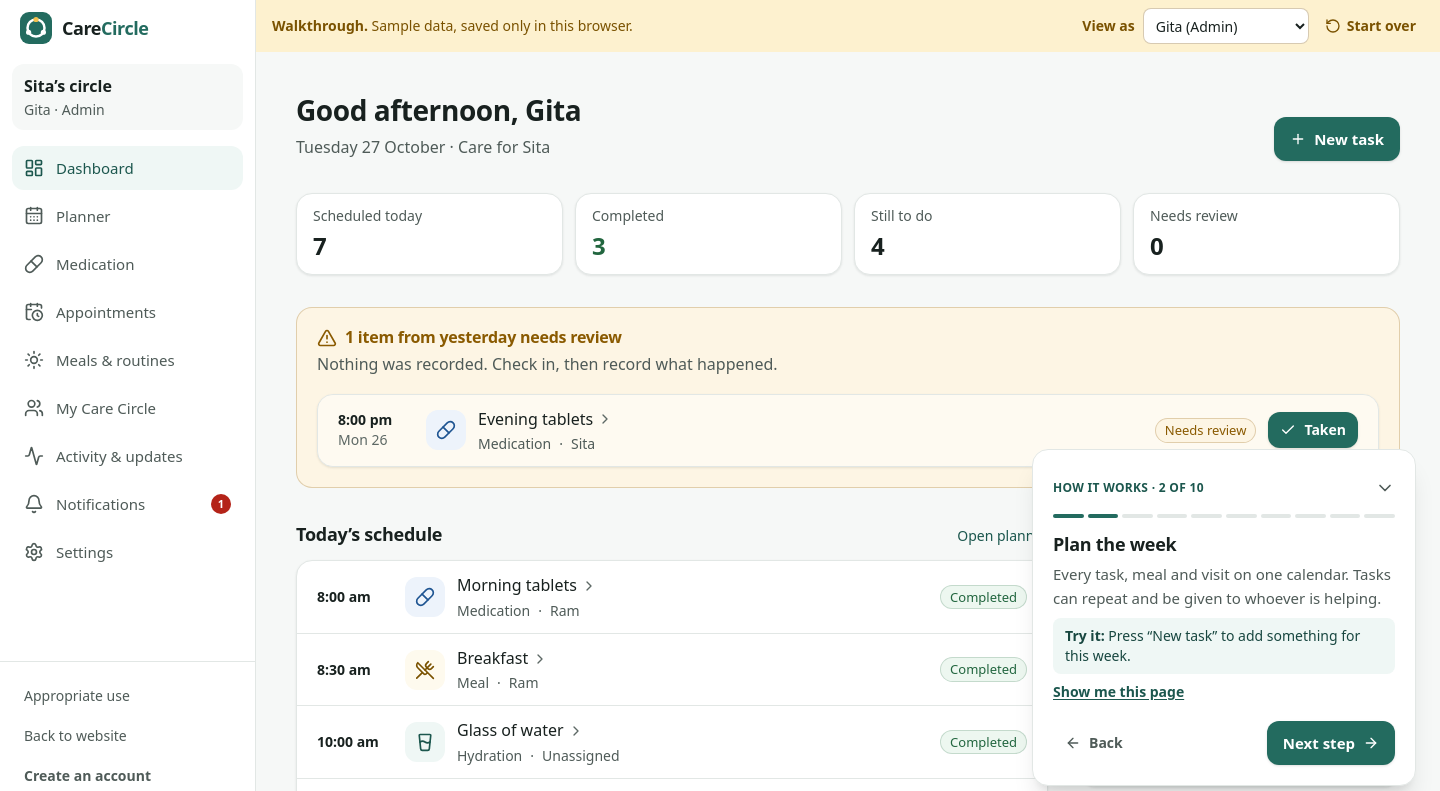
it: the guided walkthrough › lets the visitor view the circle as someone else
This screenshot has width=1440, height=791.
Select "Bina (Read-only)" in the dropdown labelled "View as". click: [1226, 26]
box: [1143,8,1309,44]
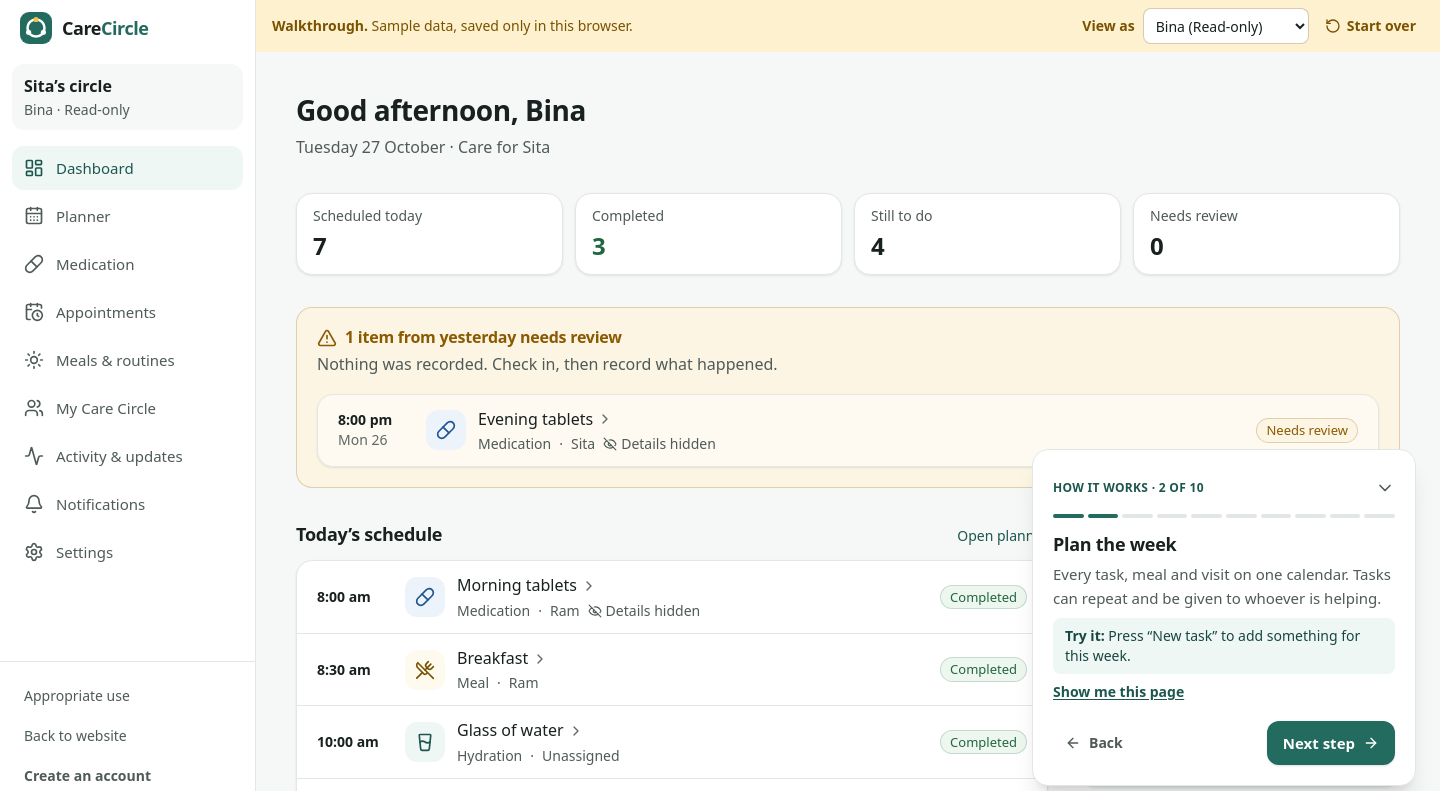
Expected: the dropdown labelled "View as" shows "Bina (Read-only)", [1143,8,1309,44]
